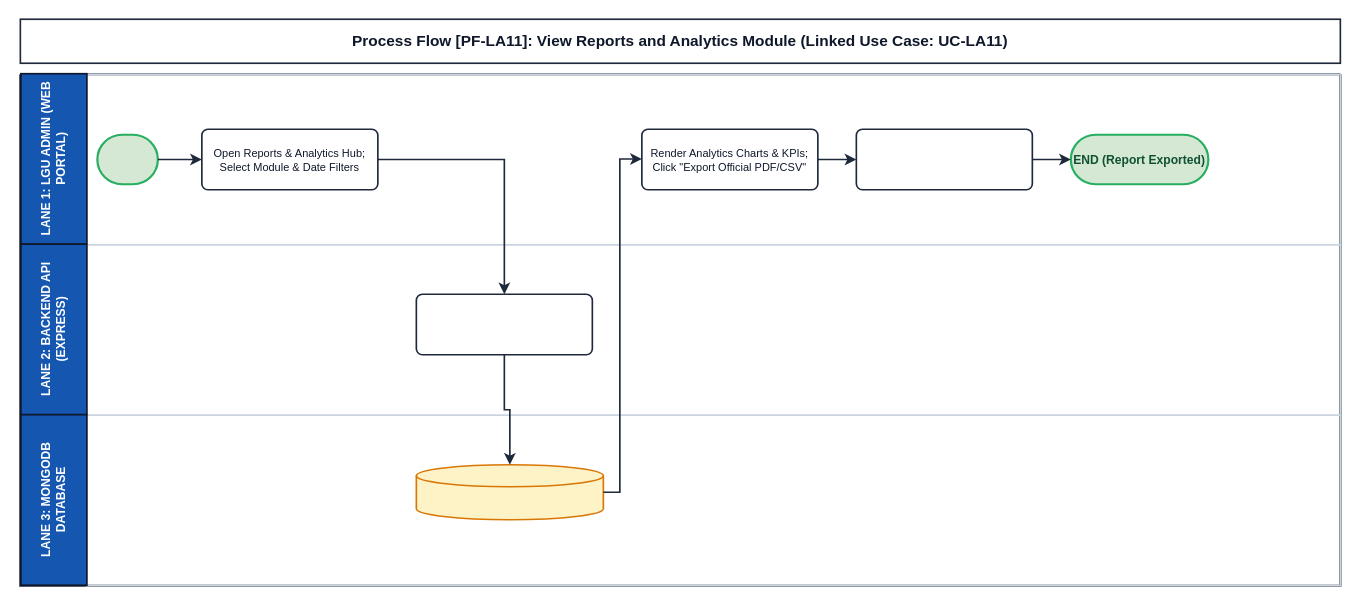
The diagram is 1360 pixels wide and 606 high, and some of its shapes have lost their labels. Each missing label, with the centre of its shape:
"Download Certified Disaster Relief Assistance Compliance Report" belongs at point (944, 159).
"GET /api/reports/gap-analysis & /api/reports/summary" belongs at point (504, 324).
"MongoDB: Aggregate Claims, Stock, Incidents & Gap Analysis Metrics" belongs at point (509, 491).
"START" belongs at point (127, 159).
